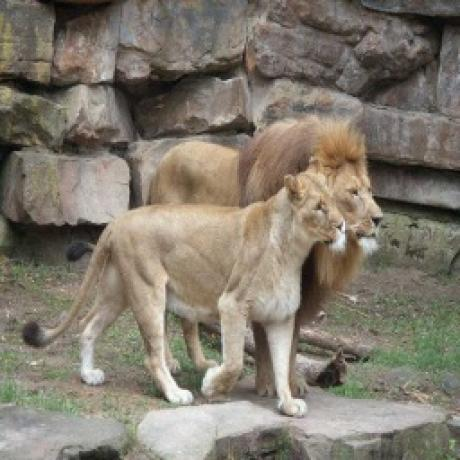Lion: (22, 157, 346, 418), (146, 113, 383, 398)
